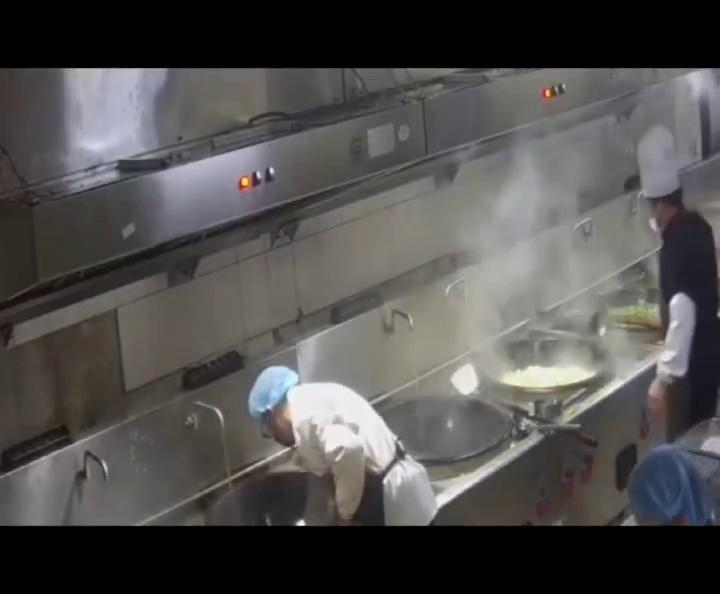gloves: (632, 450, 716, 523), (246, 364, 296, 411)
